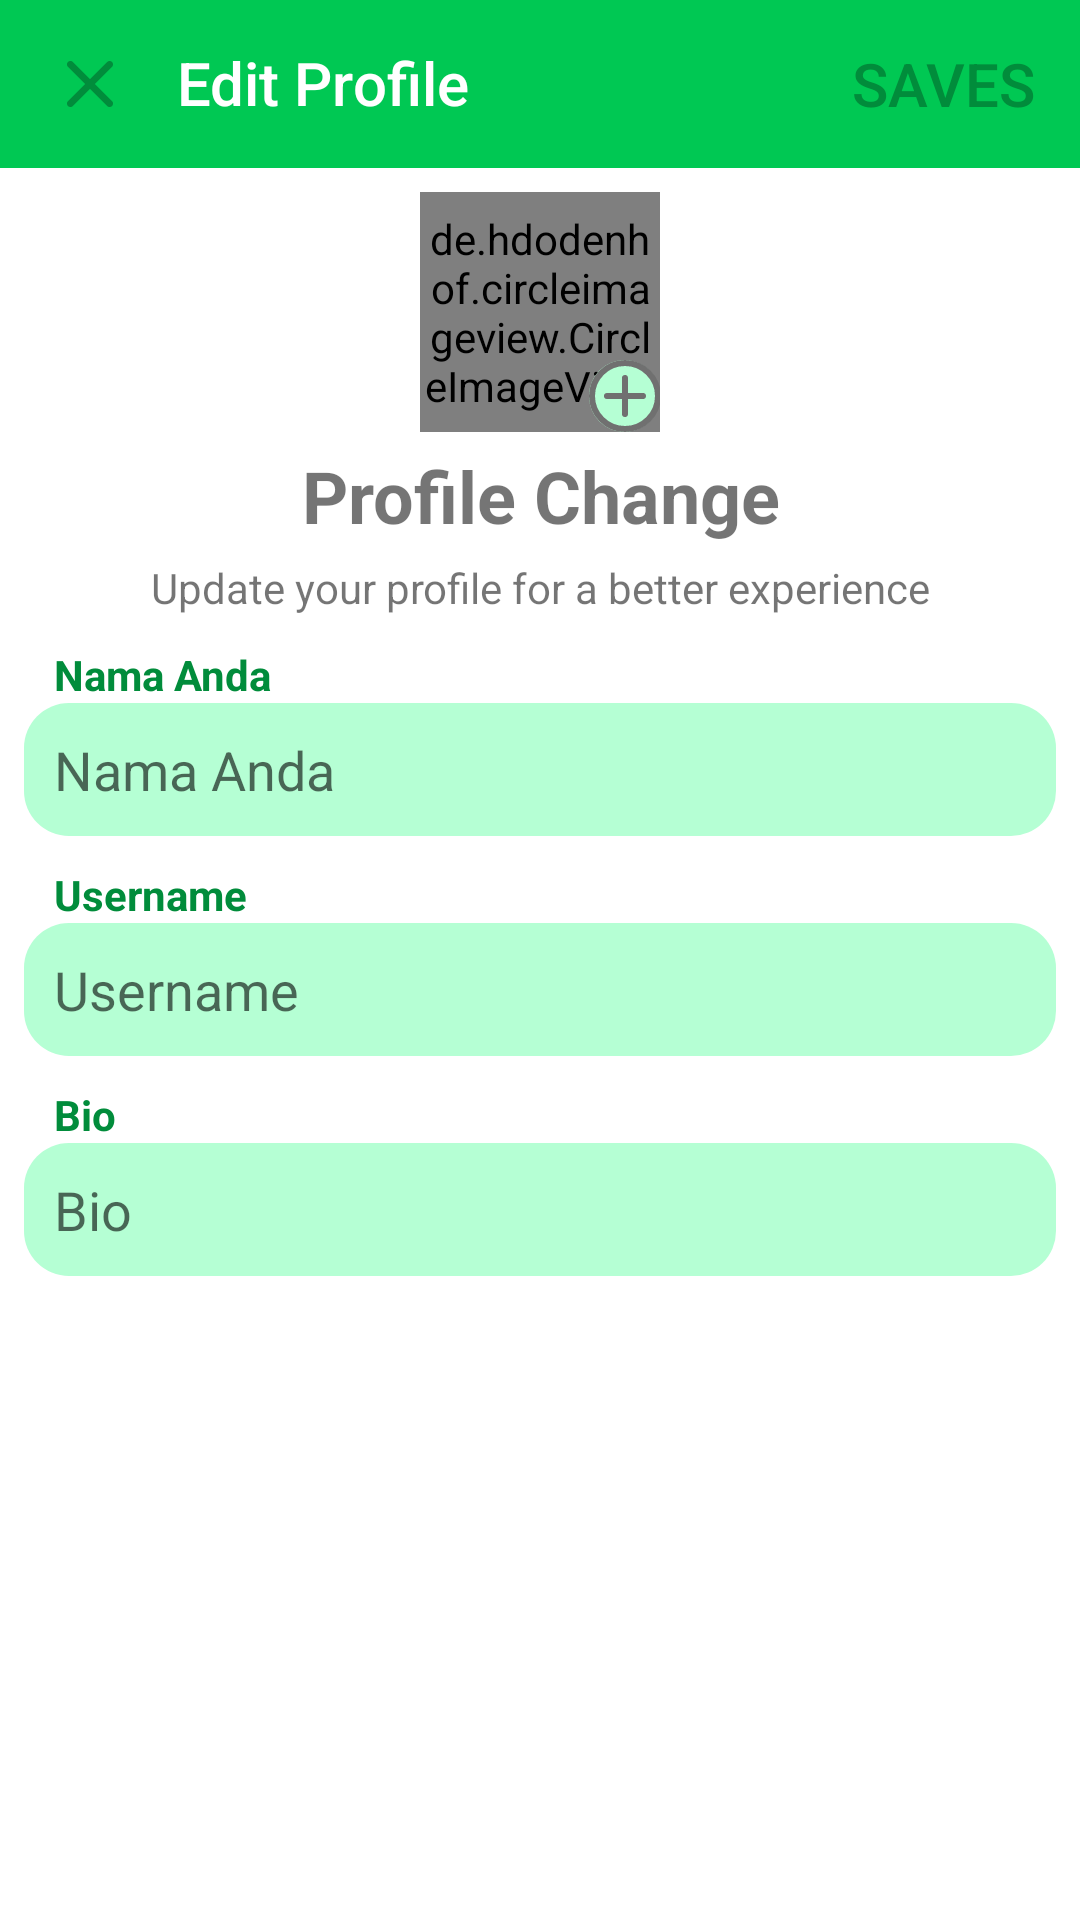

Where icons sit on this 1080px×1920px app screen, as bbox(x1, y1, x2, y2):
close: bbox(67, 61, 113, 107)
